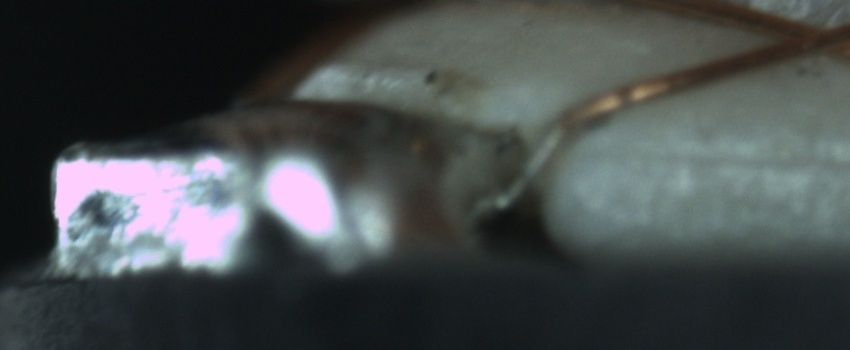CL: (762, 7, 846, 64)
DL: (567, 125, 850, 190)
TS: (489, 121, 565, 212)
